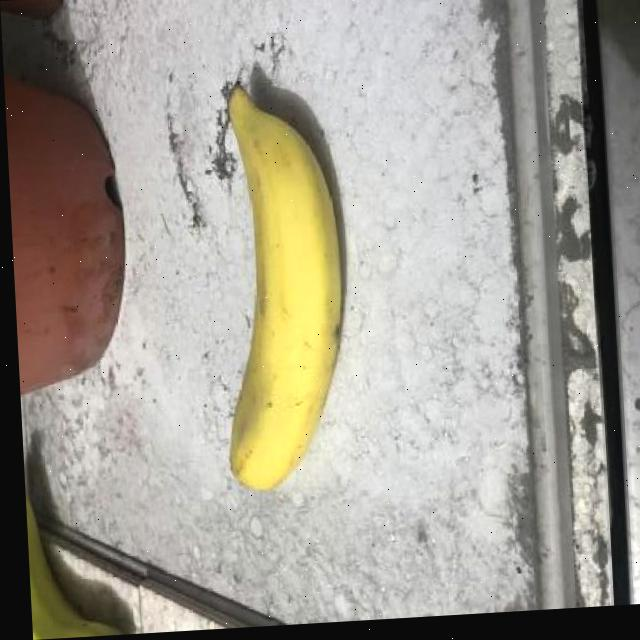banana: (211, 68, 357, 492)
